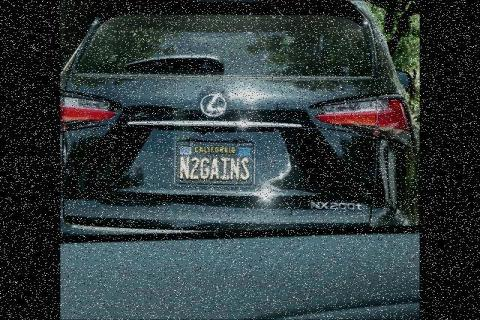LicensePlate: (175, 141, 254, 183)
